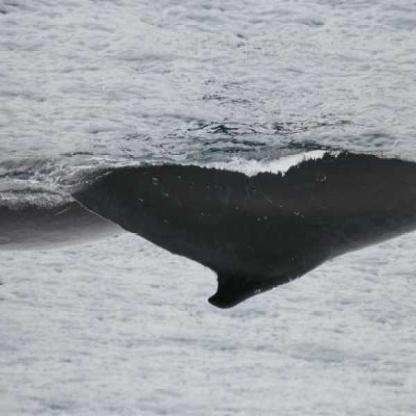dolphin-whale: (66, 143, 416, 315)
